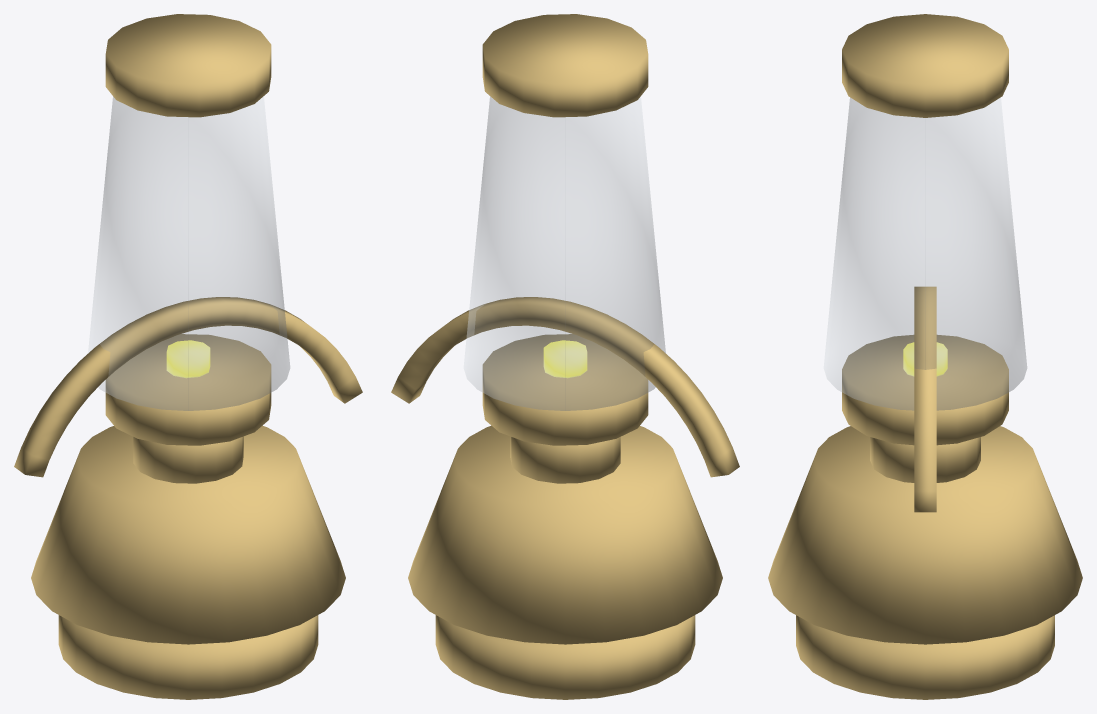
The model's file is Oellampe.glb.
3 renders of one model, left to right at view 1: azimuth 30°, elevation 25°; view 2: azimuth 150°, elevation 25°; view 3: azimuth 270°, elevation 25°, orthographic.
Visible parts, largest first — view 1: Oellampe; view 2: Oellampe; view 3: Oellampe.
Boxes of the visible parts, x1=… form: Oellampe: x1=14, y1=14, x2=362, y2=699; Oellampe: x1=391, y1=14, x2=739, y2=699; Oellampe: x1=768, y1=14, x2=1082, y2=699.
Bounding box in the file's own units: 0.2105 × 0.355 × 0.17.
